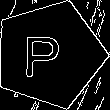P_N: (30, 29, 69, 80)
